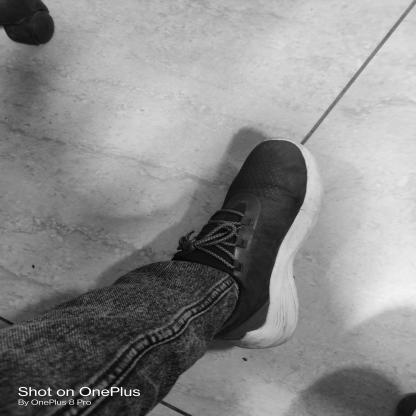ankle: (243, 286, 249, 292)
heel: (253, 342, 262, 349)
left_foot: (179, 139, 327, 351)
pinky: (252, 153, 260, 158)
toe: (302, 151, 311, 158)
